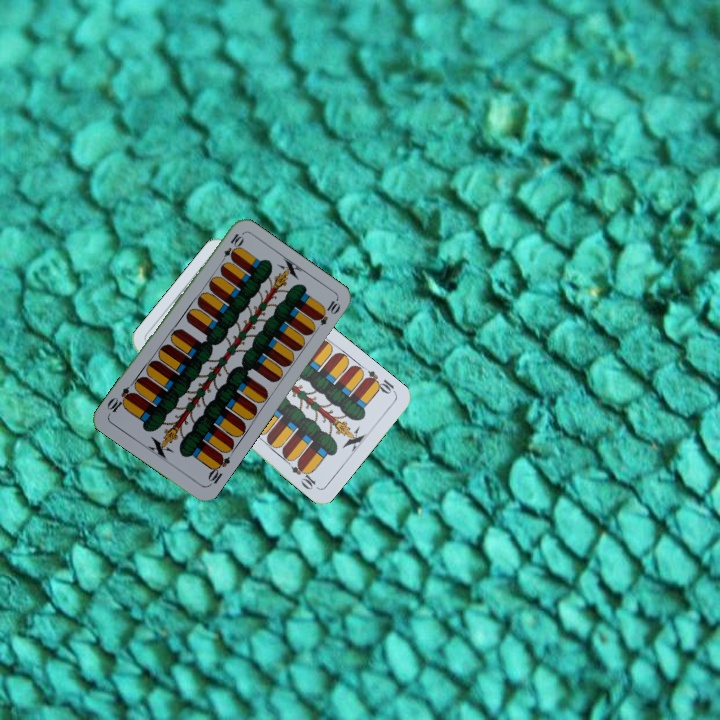E10: (203, 450, 233, 489), (361, 366, 398, 397), (216, 229, 245, 267)
